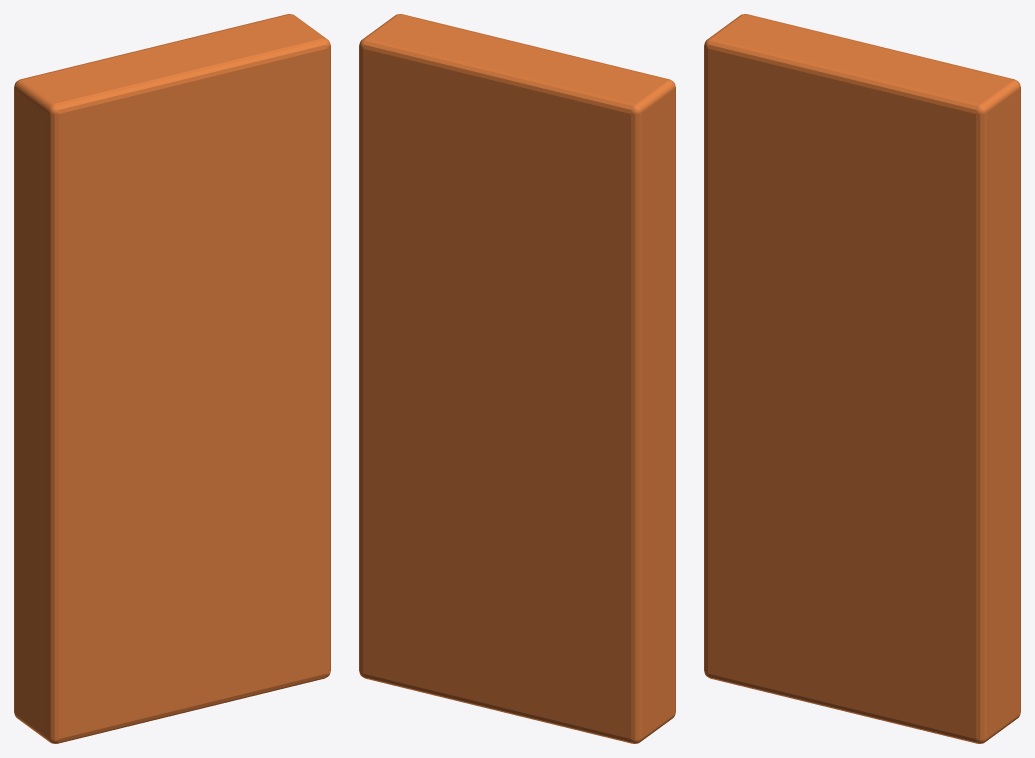
File: latch.glb
3 renders of one model, left to right at view 1: azimuth 30°, elevation 25°; view 2: azimuth 150°, elevation 25°; view 3: azimuth 330°, elevation 25°, orthographic.
Parts seen in each view (by area): view 1: latch; view 2: latch; view 3: latch.
Part boxes in pixels (<box>): latch: <box>14,14,330,743</box>; latch: <box>359,14,675,743</box>; latch: <box>704,14,1020,743</box>.
Bounding box in the file's own units: 0.012 × 0.026 × 0.003.
